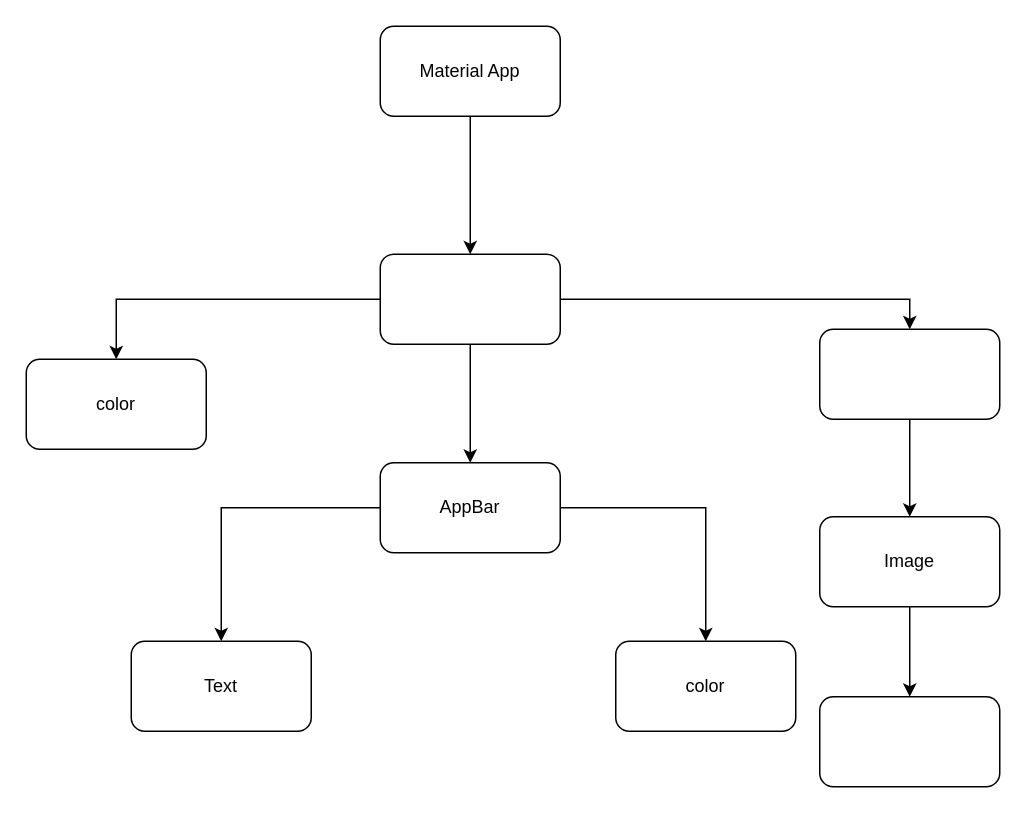
The diagram is 1026 pixels wide and 813 high, and some of its shapes have lost their labels. Each missing label, with the centre of its shape:
Center: (909,373)
Networklmage: (909,741)
Scaffold: (469,298)
